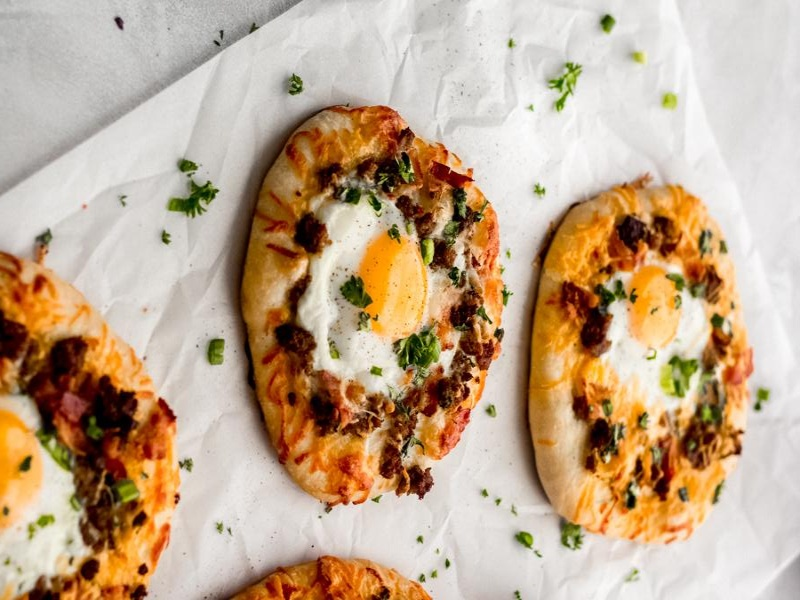oeuf: (338, 228, 435, 354), (613, 260, 689, 364)
